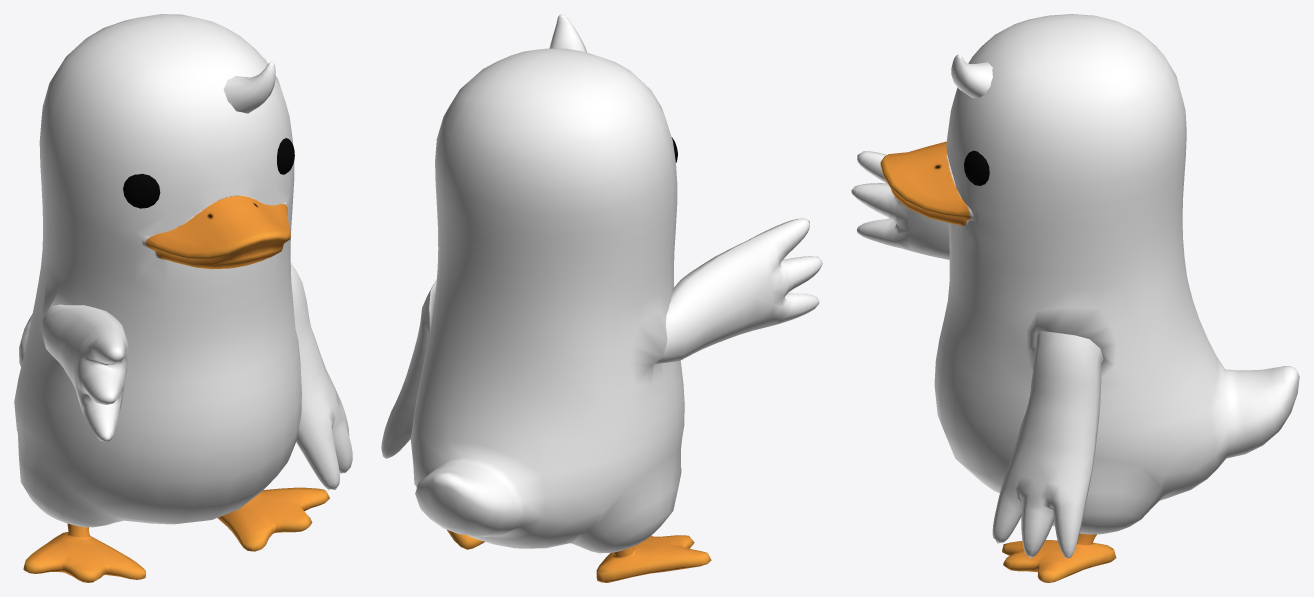
Rendered from duck_player.glb.
3 renders of one model, left to right at view 1: azimuth 30°, elevation 25°; view 2: azimuth 150°, elevation 25°; view 3: azimuth 270°, elevation 25°, orthographic. The views are drawn at different scales.
Parts seen in each view (by area): view 1: PlayerDuck; view 2: PlayerDuck; view 3: PlayerDuck.
Boxes of the visible parts, box(x1,y1,x2,y2) form: PlayerDuck: box(14, 14, 352, 582); PlayerDuck: box(381, 14, 822, 582); PlayerDuck: box(851, 14, 1299, 582).
Size of the model in its own units: 0.8167 by 1.12 by 0.9183.
1 material, 1 textured.
